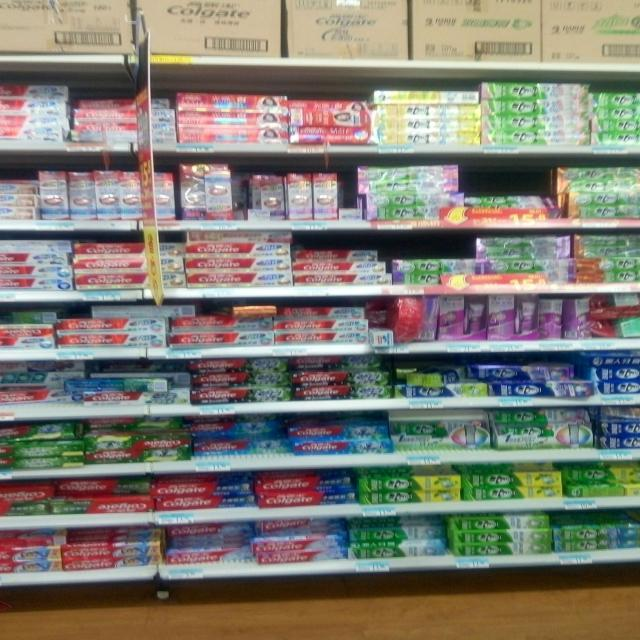empty: (336, 168, 363, 219)
